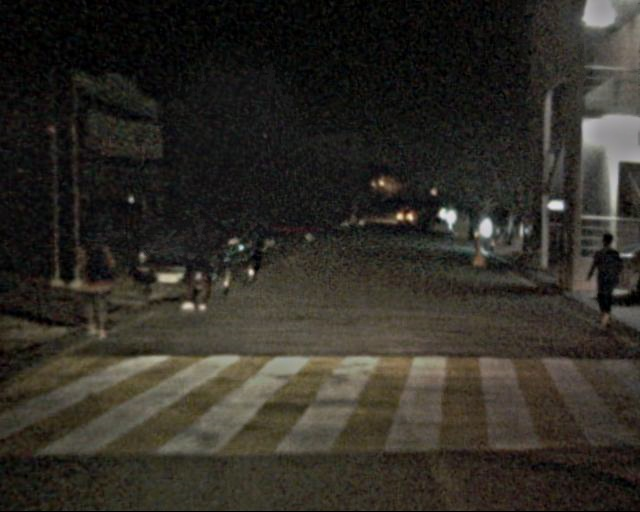person: (72, 223, 126, 342), (585, 234, 627, 330), (179, 220, 218, 313)
